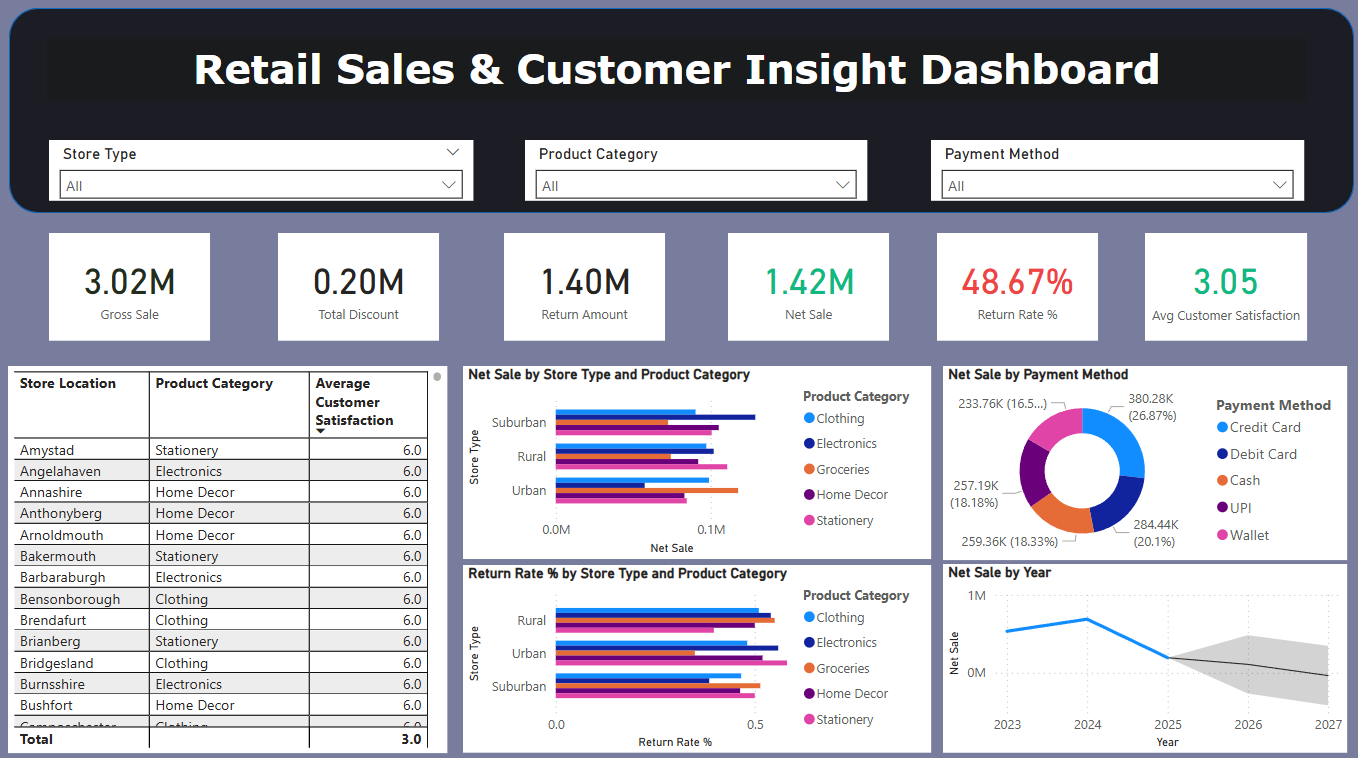

The page's visual inventory and layout, read from the dashboard file:
{"tool":"powerbi","page":{"name":"Overview","canvas":[1280,720],"ordinal":0},"visuals":[{"type":"shape","box":[11.3,13.1,1261.2,192.2],"z":0},{"type":"clusteredBarChart","title":"Net Sale by Store Type and Product Category","fields":{"Category":["_Work_Sheet_retail_sales_customer_satis.Store_Type"],"Series":["_Work_Sheet_retail_sales_customer_satis.Product_Category"],"Y":["_Work_Sheet_retail_sales_customer_satis.Net Sale"]},"box":[437,348.8,438.9,181],"z":1000},{"type":"card","fields":{"Values":["_Work_Sheet_retail_sales_customer_satis.Estimated Return Amount"]},"box":[475.4,224.2,151,100.8],"z":2000},{"type":"card","fields":{"Values":["_Work_Sheet_retail_sales_customer_satis.Gross Sale"]},"box":[49.1,224.2,151,100.8],"z":3000},{"type":"card","fields":{"Values":["_Work_Sheet_retail_sales_customer_satis.Estimated Total Discount"]},"box":[263.3,224.2,151,100.8],"z":4000},{"type":"card","fields":{"Values":["_Work_Sheet_retail_sales_customer_satis.Net Sale"]},"box":[685.5,224.2,151,100.8],"z":5000},{"type":"textbox","box":[47.3,41,1181.3,59.9],"z":6000},{"type":"card","fields":{"Values":["_Work_Sheet_retail_sales_customer_satis.Return Rate %"]},"box":[881.8,224.2,151,100.8],"z":7000},{"type":"clusteredBarChart","title":"Return Rate % by Store Type and Product Category","fields":{"Category":["_Work_Sheet_retail_sales_customer_satis.Store_Type"],"Y":["_Work_Sheet_retail_sales_customer_satis.Return Rate %"],"Series":["_Work_Sheet_retail_sales_customer_satis.Product_Category"]},"box":[436.8,535.5,438.9,176.4],"z":8000},{"type":"donutChart","fields":{"Category":["_Work_Sheet_retail_sales_customer_satis.Payment_Method"],"Y":["_Work_Sheet_retail_sales_customer_satis.Net Sale"]},"box":[887.3,348.6,379.1,181.7],"z":9000},{"type":"card","fields":{"Values":["Avg(_Work_Sheet_retail_sales_customer_satis.Customer_Satisfaction_Rating)"]},"box":[1076.5,224.1,151.9,101.3],"z":10000},{"type":"tableEx","fields":{"Values":["_Work_Sheet_retail_sales_customer_satis.Store_Location","_Work_Sheet_retail_sales_customer_satis.Product_Category","_Work_Sheet_retail_sales_customer_satis.Average Customer Satisfaction"]},"box":[10.5,348.6,411.6,363.3],"z":11000},{"type":"lineChart","fields":{"Category":["_Work_Sheet_retail_sales_customer_satis.Purchase_Date.Variation.Date Hierarchy.Year","_Work_Sheet_retail_sales_customer_satis.Purchase_Date.Variation.Date Hierarchy.Quarter","_Work_Sheet_retail_sales_customer_satis.Purchase_Date.Variation.Date Hierarchy.Month","_Work_Sheet_retail_sales_customer_satis.Purchase_Date.Variation.Date Hierarchy.Day"],"Y":["_Work_Sheet_retail_sales_customer_satis.Net Sale"]},"box":[887.3,534.5,379.1,177.5],"z":12000},{"type":"slicer","fields":{"Values":["_Work_Sheet_retail_sales_customer_satis.Store_Type"]},"box":[48.8,136.9,397.6,57.2],"z":13000},{"type":"slicer","fields":{"Values":["_Work_Sheet_retail_sales_customer_satis.Payment_Method"]},"box":[875.8,136.9,349.8,57.2],"z":14000},{"type":"slicer","fields":{"Values":["_Work_Sheet_retail_sales_customer_satis.Product_Category"]},"box":[495.1,136.9,320.7,57.2],"z":15000}]}

Visuals, with their boxes in screenshot pixels (x1, y1, x2, y2), scaled from the page's 1280x720 canvas onto the 1358x758 screenshot:
shape: (12, 14, 1350, 216)
"Net Sale by Store Type and Product Category" clusteredBarChart: (464, 367, 929, 558)
card - _Work_Sheet_retail_sales_customer_satis.Estimated Return Amount: (504, 236, 665, 342)
card - _Work_Sheet_retail_sales_customer_satis.Gross Sale: (52, 236, 212, 342)
card - _Work_Sheet_retail_sales_customer_satis.Estimated Total Discount: (279, 236, 440, 342)
card - _Work_Sheet_retail_sales_customer_satis.Net Sale: (727, 236, 887, 342)
textbox: (50, 43, 1303, 106)
card - _Work_Sheet_retail_sales_customer_satis.Return Rate %: (936, 236, 1096, 342)
"Return Rate % by Store Type and Product Category" clusteredBarChart: (463, 564, 929, 749)
donutChart - _Work_Sheet_retail_sales_customer_satis.Payment_Method x _Work_Sheet_retail_sales_customer_satis.Net Sale: (941, 367, 1344, 558)
card - Avg(_Work_Sheet_retail_sales_customer_satis.Customer_Satisfaction_Rating): (1142, 236, 1303, 343)
tableEx - _Work_Sheet_retail_sales_customer_satis.Store_Location x _Work_Sheet_retail_sales_customer_satis.Product_Category: (11, 367, 448, 749)
lineChart - _Work_Sheet_retail_sales_customer_satis.Purchase_Date.Variation.Date Hierarchy.Year x _Work_Sheet_retail_sales_customer_satis.Purchase_Date.Variation.Date Hierarchy.Quarter: (941, 563, 1344, 750)
slicer - _Work_Sheet_retail_sales_customer_satis.Store_Type: (52, 144, 474, 204)
slicer - _Work_Sheet_retail_sales_customer_satis.Payment_Method: (929, 144, 1300, 204)
slicer - _Work_Sheet_retail_sales_customer_satis.Product_Category: (525, 144, 866, 204)
